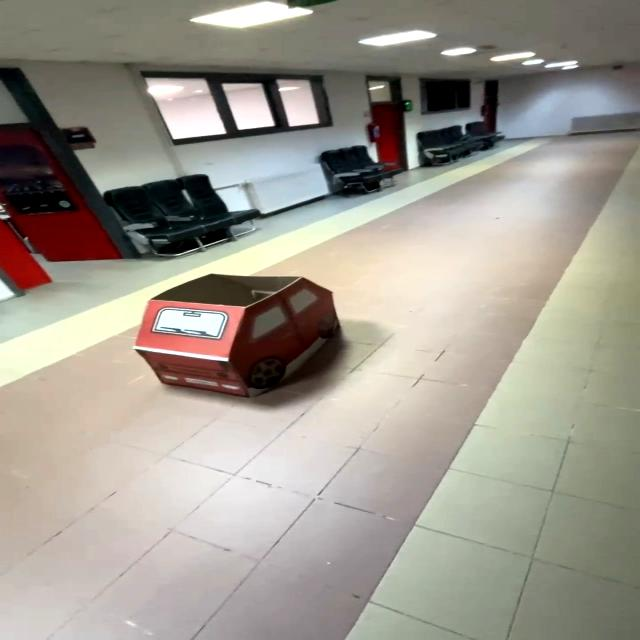red_car: (89, 257, 366, 412)
